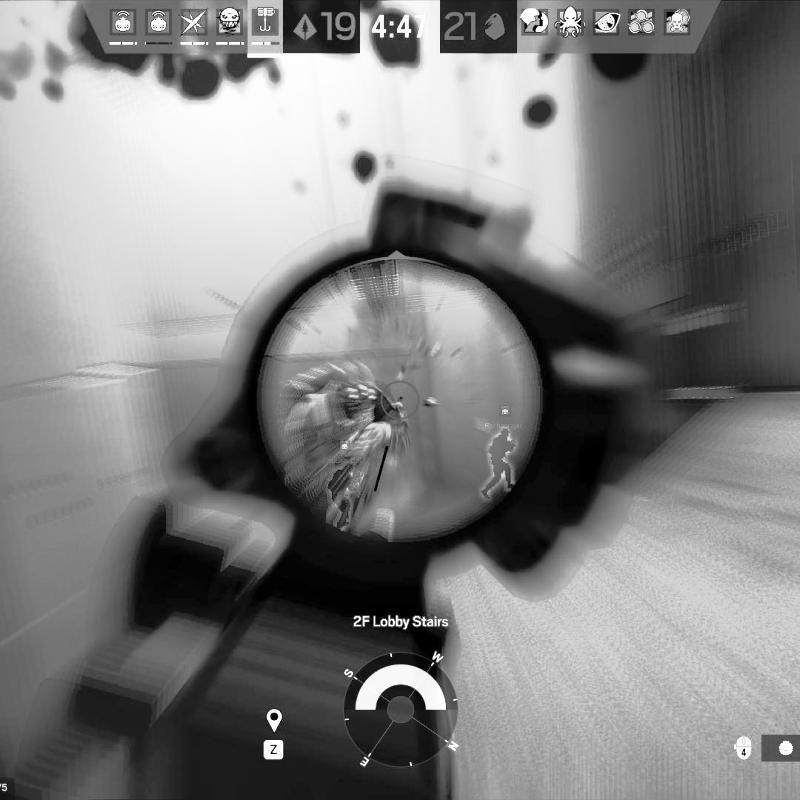Character: (275, 357, 413, 530)
Friend_label: (484, 403, 524, 430), (325, 440, 363, 466)
Head: (335, 357, 379, 417)
